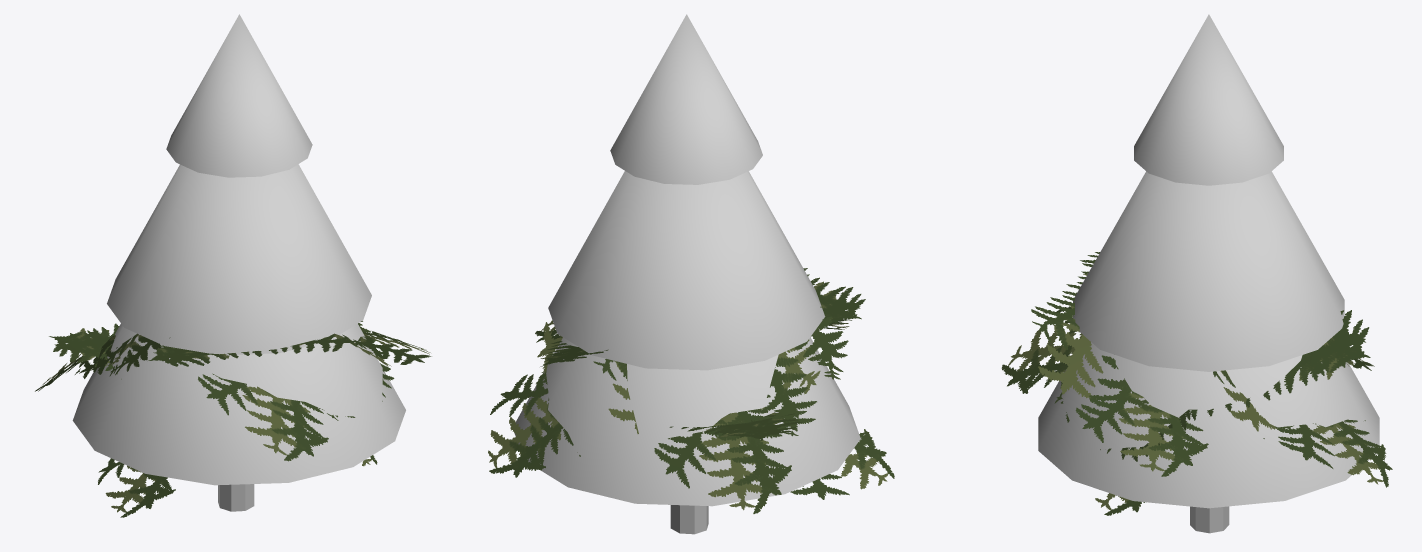
File: Tree_Fir.fbx
3 views of the same model, side by side, from view 1: azimuth 30°, elevation 25°; view 2: azimuth 150°, elevation 25°; view 3: azimuth 270°, elevation 25° (orthographic). The views are drawn at different scales.
Visible parts, largest first — view 1: Tree_Fir:pCylinder1group1pCone2, Tree_Fir:pCylinder1group1pCone3, Tree_Fir:pCylinder1group1pCone1, Tree_Fir:pCylinder1group1pPlane6, Tree_Fir:pCylinder1group1pPlane3, Tree_Fir:pCylinder1group1pPlane5, Tree_Fir:pCylinder1group1pPlane1, Tree_Fir:pCylinder1group1pPlane4, Tree_Fir:pCylinder1group1; view 2: Tree_Fir:pCylinder1group1pCone2, Tree_Fir:pCylinder1group1pCone3, Tree_Fir:pCylinder1group1pCone1, Tree_Fir:pCylinder1group1pPlane1, Tree_Fir:pCylinder1group1pPlane2, Tree_Fir:pCylinder1group1pPlane5, Tree_Fir:pCylinder1group1pPlane3, Tree_Fir:pCylinder1group1pPlane4, Tree_Fir:pCylinder1group1, Tree_Fir:pCylinder1group1pPlane6; view 3: Tree_Fir:pCylinder1group1pCone2, Tree_Fir:pCylinder1group1pCone3, Tree_Fir:pCylinder1group1pCone1, Tree_Fir:pCylinder1group1pPlane3, Tree_Fir:pCylinder1group1pPlane6, Tree_Fir:pCylinder1group1pPlane2, Tree_Fir:pCylinder1group1.
Boxes of the visible parts, x1,y1,x2,y2 form: Tree_Fir:pCylinder1group1pCone2: (107,164,371,354); Tree_Fir:pCylinder1group1pCone3: (72,323,405,485); Tree_Fir:pCylinder1group1pCone1: (166,14,312,177); Tree_Fir:pCylinder1group1pPlane6: (184,321,394,461); Tree_Fir:pCylinder1group1pPlane3: (148,331,431,366); Tree_Fir:pCylinder1group1pPlane5: (98,458,175,517); Tree_Fir:pCylinder1group1pPlane1: (35,333,170,391); Tree_Fir:pCylinder1group1pPlane4: (49,323,377,466); Tree_Fir:pCylinder1group1: (218,484,254,511); Tree_Fir:pCylinder1group1pCone2: (548,171,825,370); Tree_Fir:pCylinder1group1pCone3: (514,337,860,506); Tree_Fir:pCylinder1group1pCone1: (610,14,762,184); Tree_Fir:pCylinder1group1pPlane1: (593,306,848,513); Tree_Fir:pCylinder1group1pPlane2: (488,322,580,477); Tree_Fir:pCylinder1group1pPlane5: (541,372,894,499); Tree_Fir:pCylinder1group1pPlane3: (535,268,865,342); Tree_Fir:pCylinder1group1pPlane4: (669,412,802,440); Tree_Fir:pCylinder1group1: (670,505,708,534); Tree_Fir:pCylinder1group1pPlane6: (540,319,851,366); Tree_Fir:pCylinder1group1pCone2: (1073,171,1344,371); Tree_Fir:pCylinder1group1pCone3: (1038,342,1379,508); Tree_Fir:pCylinder1group1pCone1: (1134,14,1283,185); Tree_Fir:pCylinder1group1pPlane3: (1031,252,1208,476); Tree_Fir:pCylinder1group1pPlane6: (1001,306,1370,461); Tree_Fir:pCylinder1group1pPlane2: (1213,370,1392,487); Tree_Fir:pCylinder1group1: (1190,506,1229,533).
Bounding box in the file's own units: 22.23 × 28.83 × 23.41.
